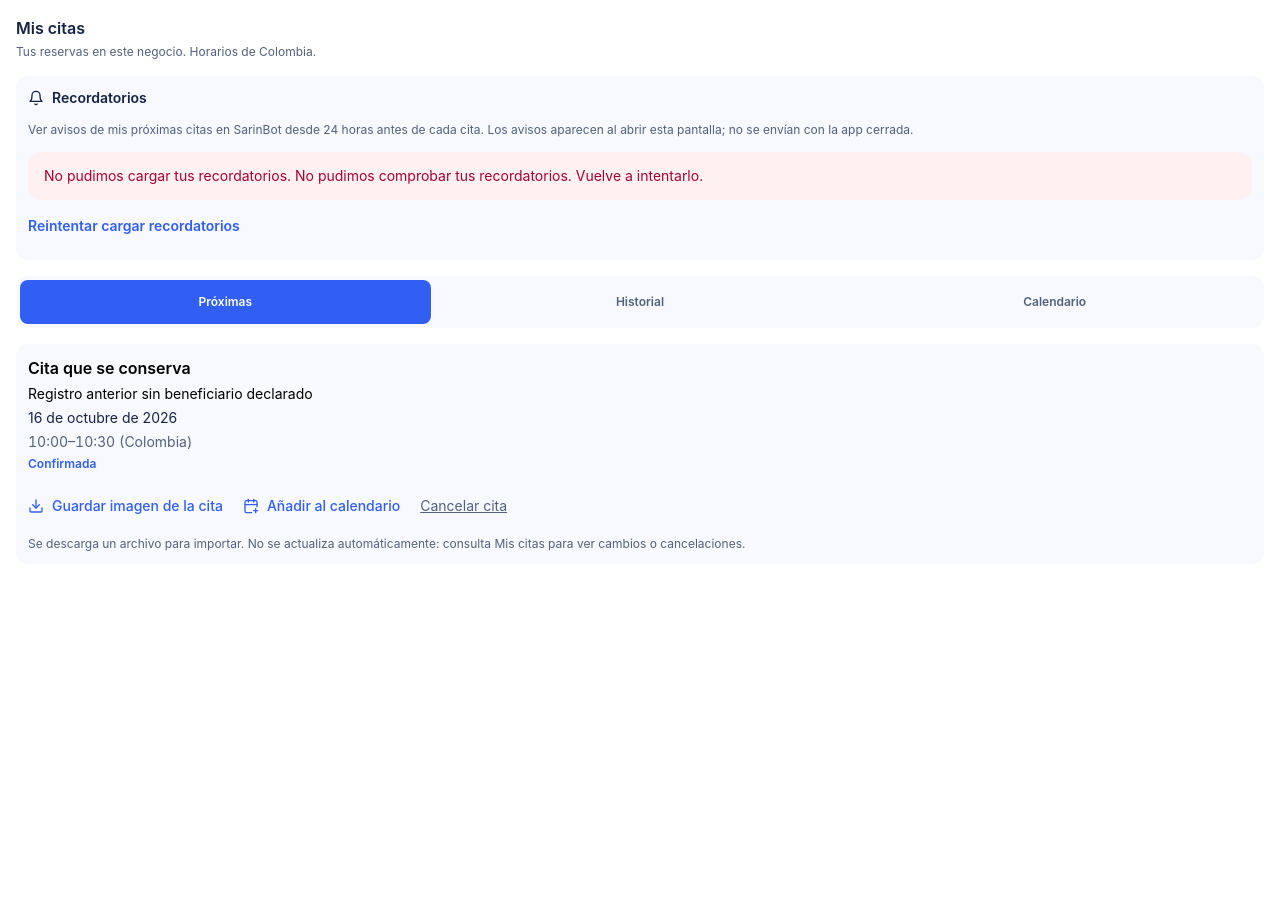
Test: the customer's appointments within one business › lets the customer keep the appointment and preserves it when cancellation is rejected
The image size is (1280, 900).
Click the button "Cancelar cita".
click(464, 506)  # box [420,484,507,528]
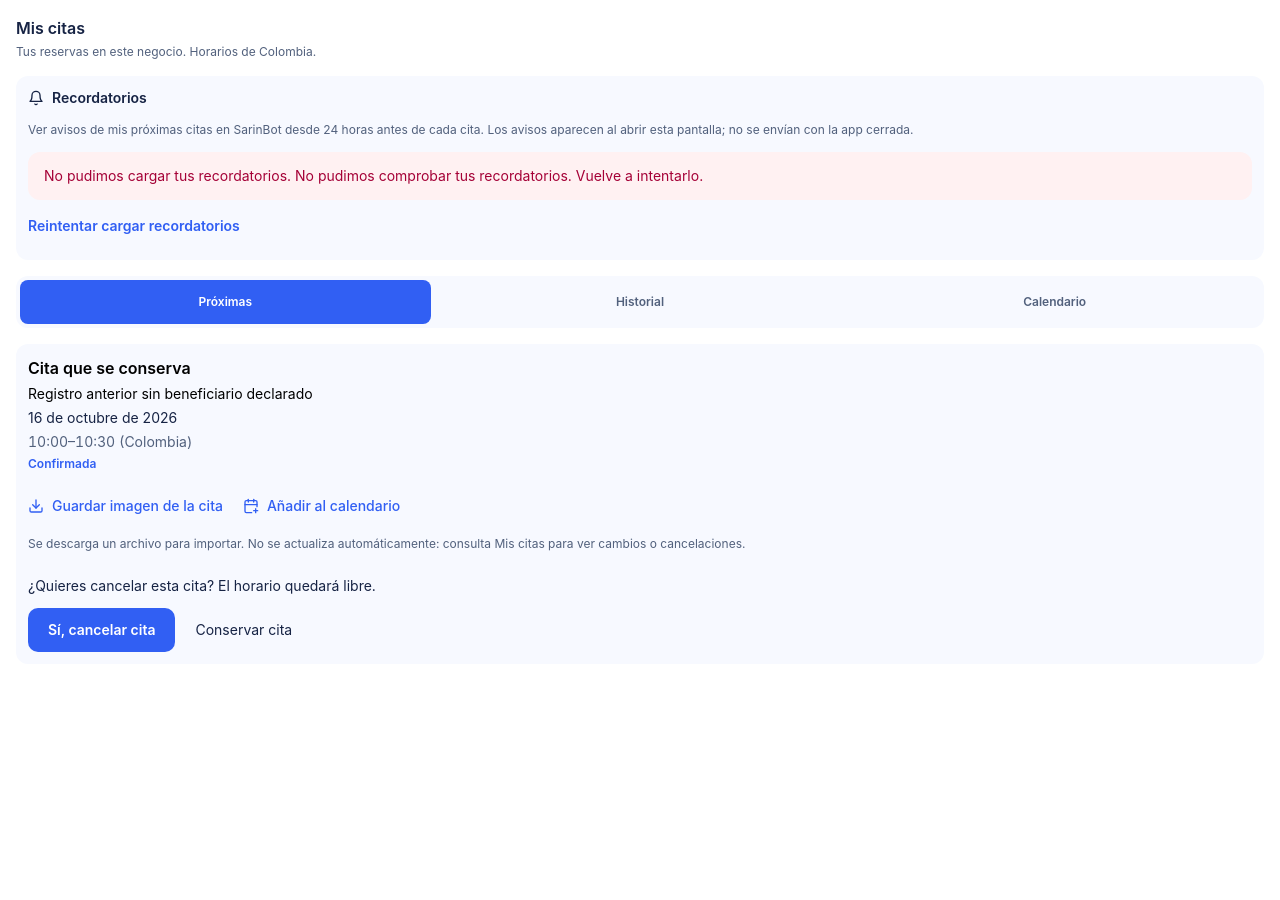
Click the button "Conservar cita".
click(244, 630)  # box [184,608,304,652]
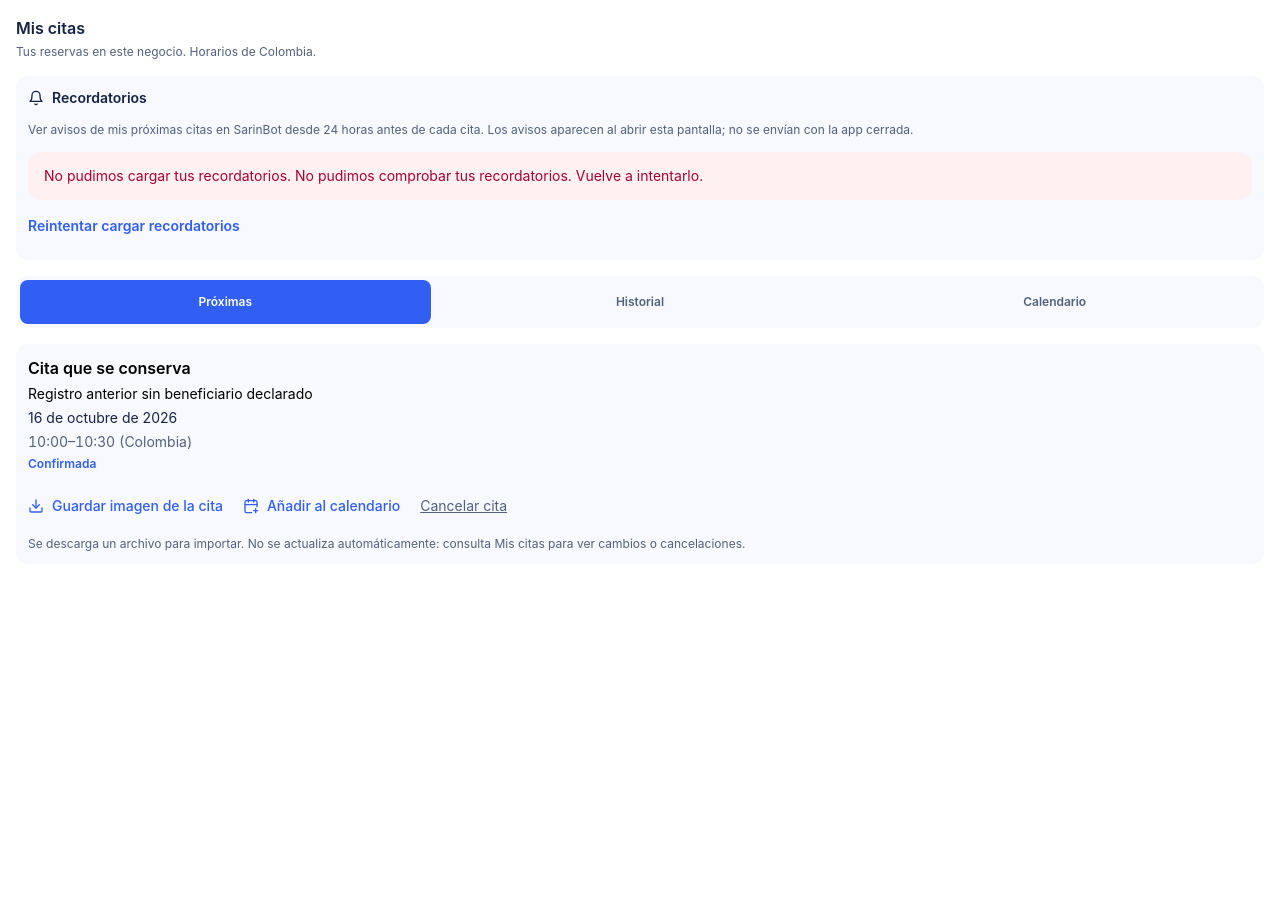
Click the button "Cancelar cita".
click(464, 506)  # box [420,484,507,528]
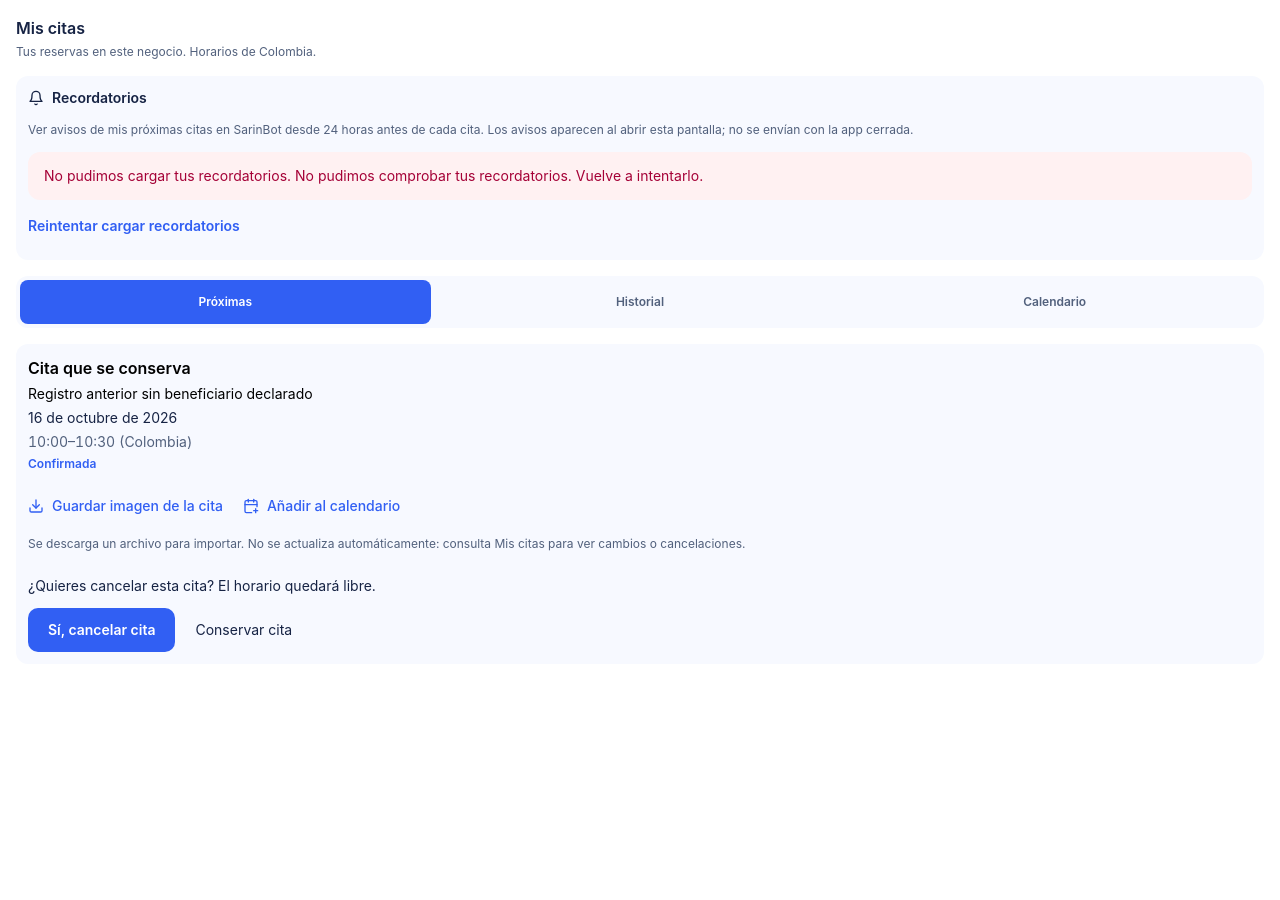
Click the button "Sí, cancelar cita".
click(102, 630)  # box [28,608,176,652]
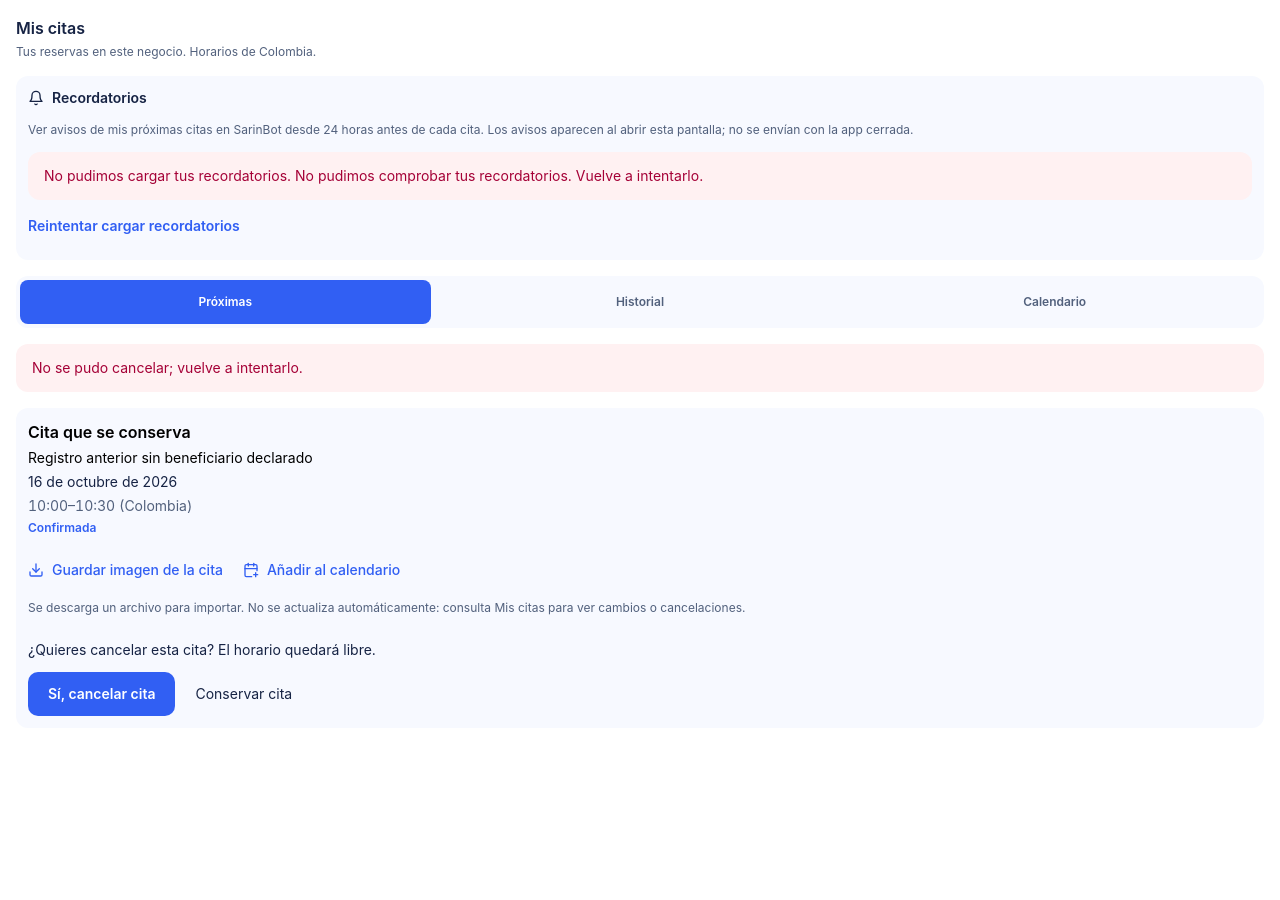
expect the text "No se pudo cancelar; vuelve a intentarlo." is shown: met, box [16,344,1264,392]
